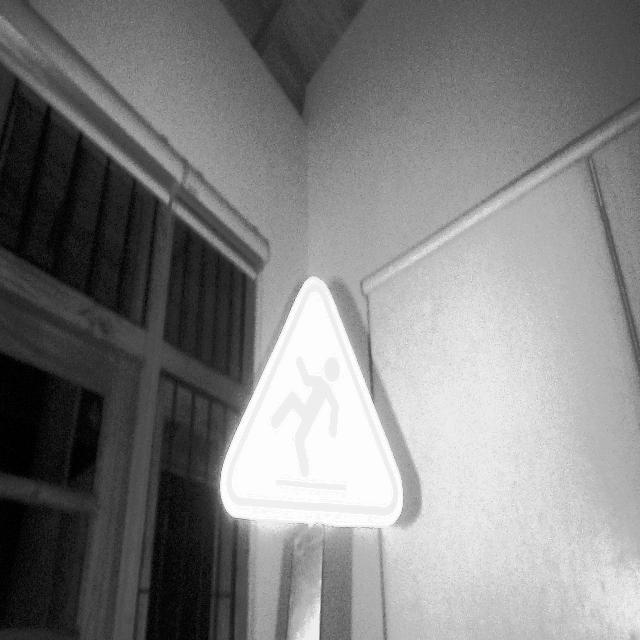Sign: (219, 276, 405, 531)
